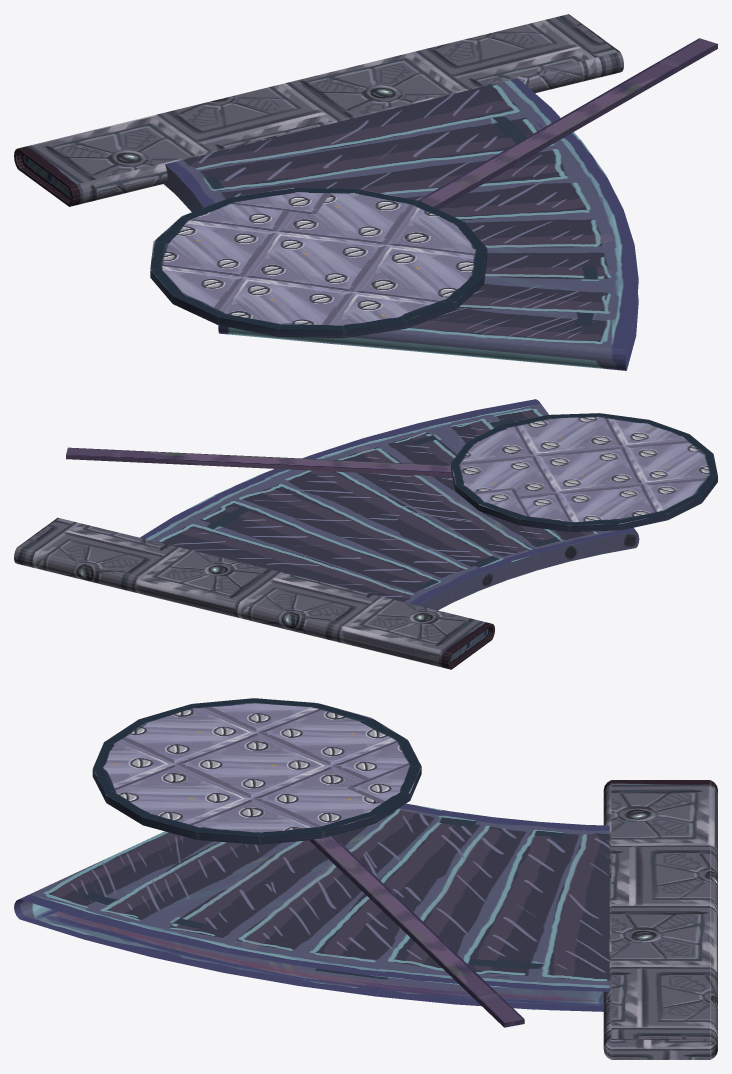
File: last objects.fbx
The picture shows the model from 3 angles, top to bottom: view 1: azimuth 30°, elevation 25°; view 2: azimuth 150°, elevation 25°; view 3: azimuth 270°, elevation 25°; orthographic projection. The views are drawn at different scales.
Parts seen in each view (by area): view 1: pCylinder10, pCube12, pCylinder7; view 2: pCylinder10, pCube12, pCylinder7; view 3: pCylinder10, pCube12, pCylinder7.
Part boxes in pixels (x1,y1,x2,y2): pCylinder10: (164,78,638,370); pCube12: (150,38,717,338); pCylinder7: (14,14,623,206); pCylinder10: (140,399,639,610); pCube12: (66,413,717,532); pCylinder7: (14,517,494,669); pCylinder10: (14,803,609,1011); pCube12: (92,698,524,1027); pCylinder7: (603,780,717,1059).
Bounding box in the file's own units: 8279 × 784 × 7748.
3 materials, 3 textured.
